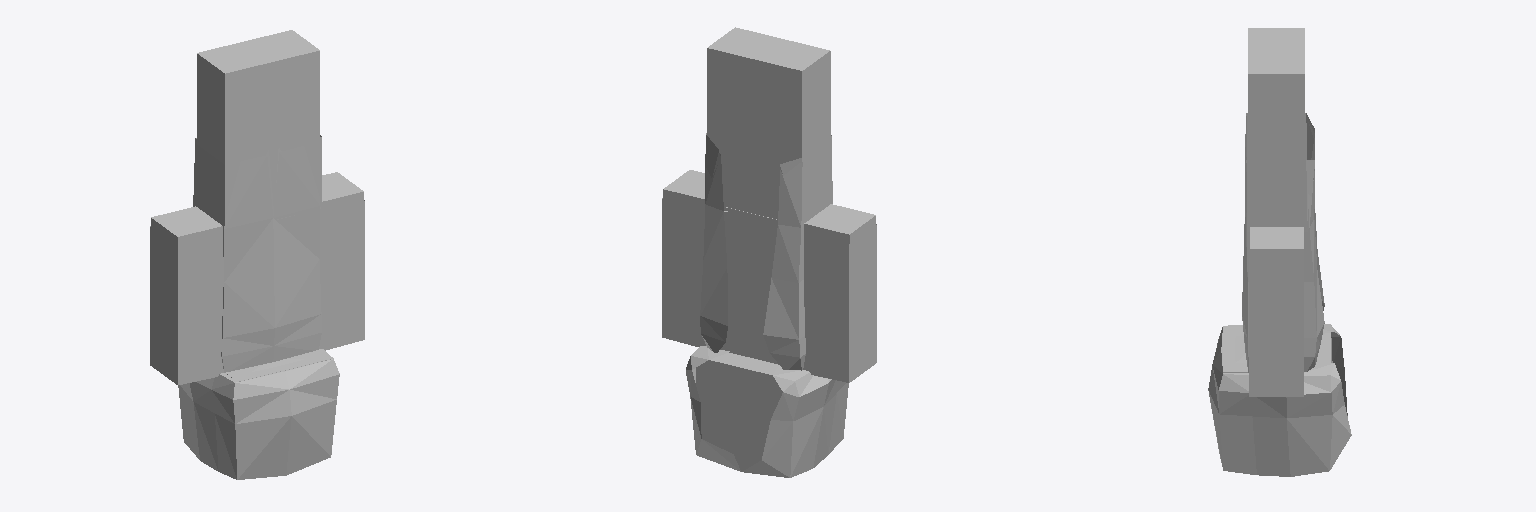
The model's file is stalker.plash.obj.
3 renders of one model, left to right at view 1: azimuth 30°, elevation 25°; view 2: azimuth 150°, elevation 25°; view 3: azimuth 270°, elevation 25°, orthographic.
Parts seen in each view (by area): view 1: bodyModel, headModel, rightArmModel, rightLegModel, leftLegModel, leftArmModel, right_arm, left_arm, head; view 2: bodyModel, rightLegModel, rightArmModel, headModel, leftLegModel, head, leftArmModel, right_arm, left_arm; view 3: headModel, leftLegModel, leftArmModel, bodyModel, rightLegModel, left_arm, head.
Part boxes in pixels (bbox=[...]): bodyModel: bbox=[193, 143, 321, 372]; headModel: bbox=[178, 349, 339, 479]; rightArmModel: bbox=[150, 226, 223, 384]; rightLegModel: bbox=[195, 41, 273, 217]; leftLegModel: bbox=[245, 30, 321, 219]; leftArmModel: bbox=[319, 200, 364, 350]; right_arm: bbox=[151, 206, 222, 245]; left_arm: bbox=[320, 172, 363, 211]; head: bbox=[226, 350, 330, 456]; bodyModel: bbox=[700, 141, 832, 370]; rightLegModel: bbox=[754, 39, 831, 219]; rightArmModel: bbox=[803, 224, 876, 382]; headModel: bbox=[686, 346, 848, 477]; leftLegModel: bbox=[705, 27, 780, 213]; head: bbox=[696, 353, 782, 459]; leftArmModel: bbox=[662, 198, 705, 346]; right_arm: bbox=[804, 204, 875, 243]; left_arm: bbox=[663, 170, 704, 208]; headModel: bbox=[1208, 324, 1351, 476]; leftLegModel: bbox=[1246, 51, 1314, 231]; leftArmModel: bbox=[1249, 258, 1303, 396]; bodyModel: bbox=[1242, 122, 1324, 372]; rightLegModel: bbox=[1246, 28, 1314, 159]; left_arm: bbox=[1250, 227, 1303, 257]; head: bbox=[1223, 327, 1330, 372].
Bounding box in the file's own units: 16 × 33.51 × 10.62.